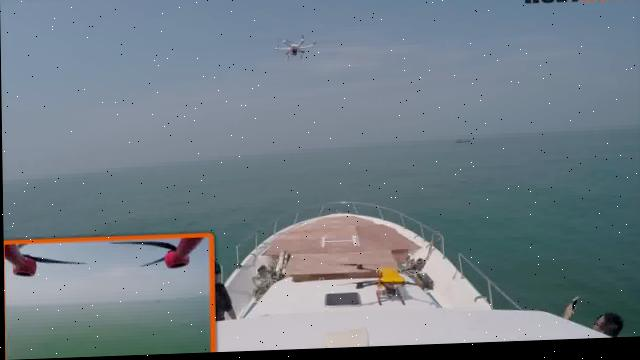drone: (274, 37, 315, 64)
